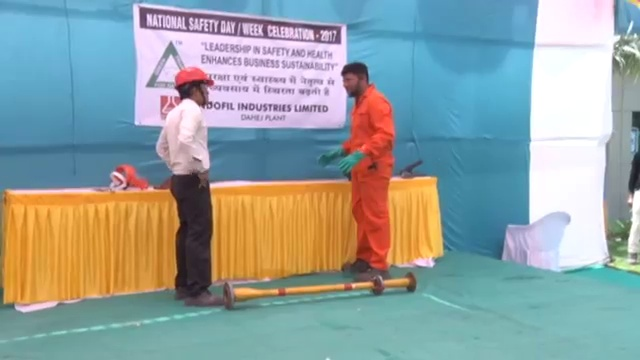helmet: (172, 66, 216, 88)
helmet_off: (340, 62, 369, 98)
helmet_on: (171, 68, 215, 107)
person: (154, 66, 225, 309), (339, 61, 396, 279)
